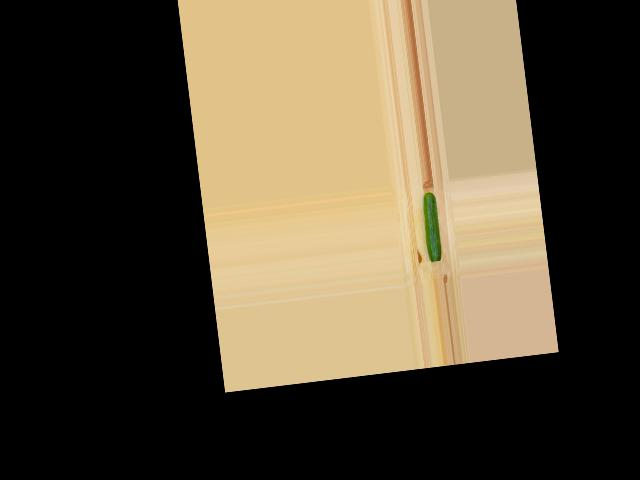cucumber: (420, 191, 442, 261)
